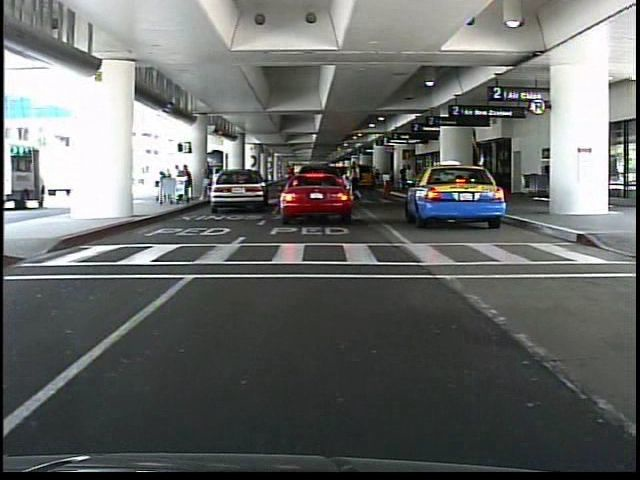person: (405, 165, 419, 199), (398, 160, 410, 196), (336, 169, 346, 201), (205, 161, 215, 179), (358, 160, 359, 201)
